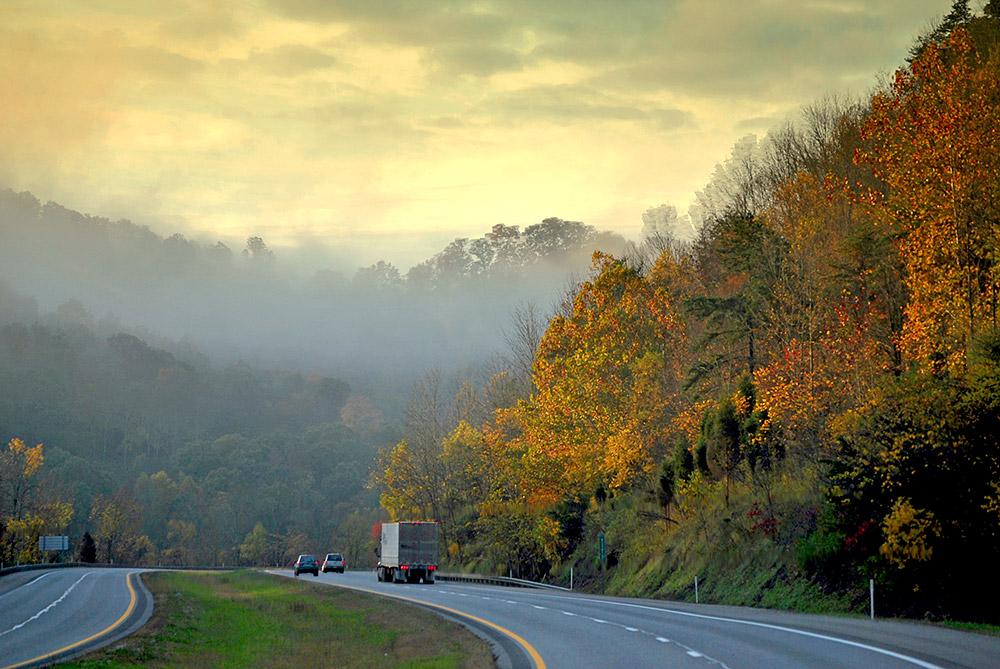bus: (374, 521, 439, 585)
car: (294, 554, 319, 577), (321, 552, 345, 573)
